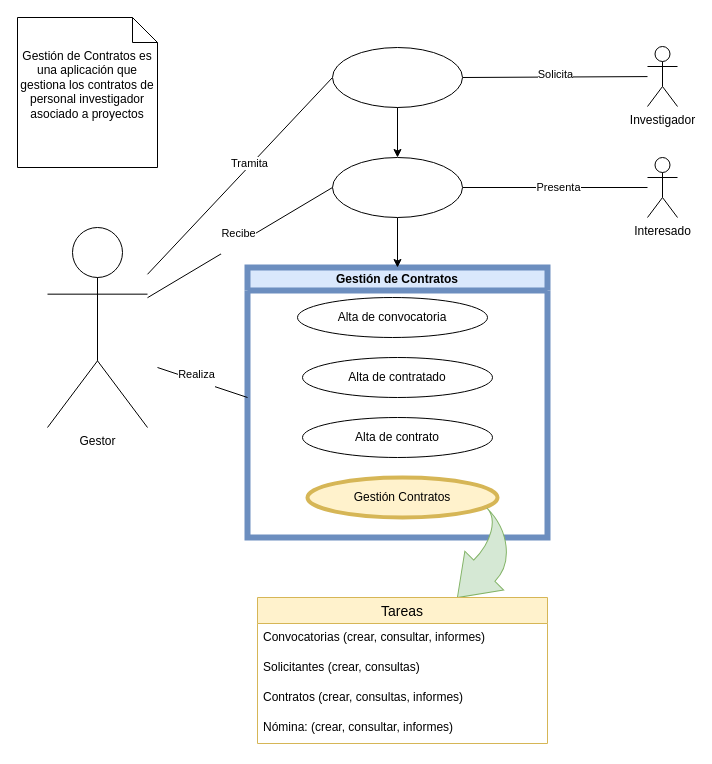
Some shapes in this 712 by 764 pixel diagram are drawn without their labels. The shapes that lost their labels are listed below. From the top down, each one's centre as x and y in pixels, then its label:
the point at 397,77: Alta Convocatoria
the point at 397,187: Solicitudes
